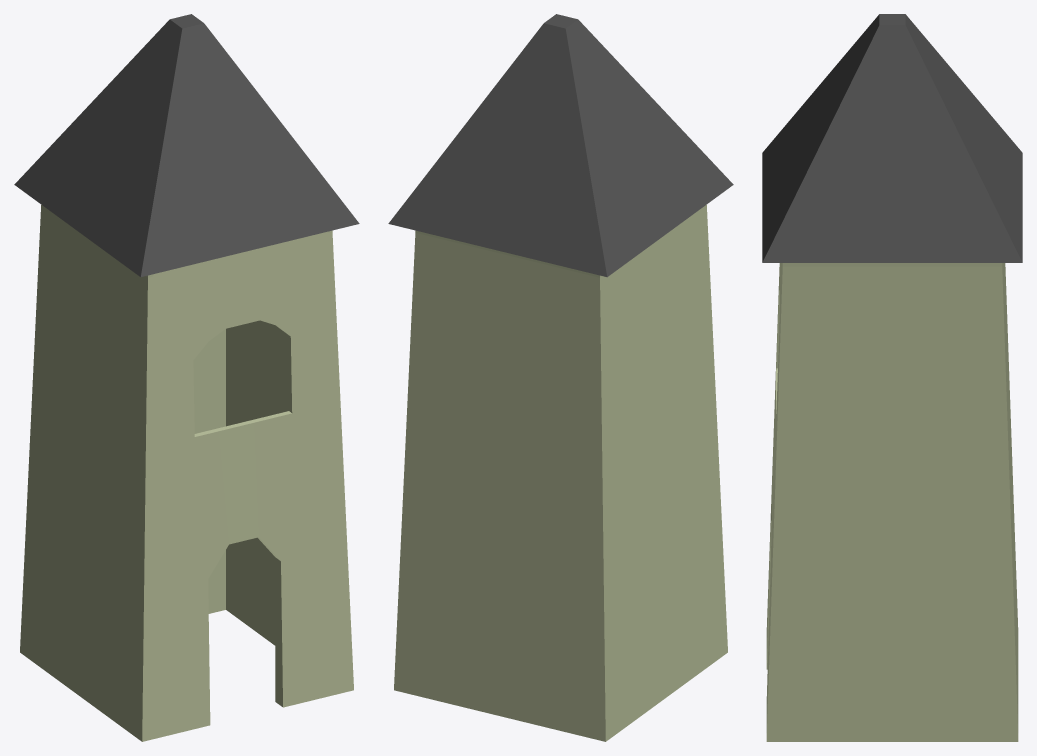
The model's file is Tower.fbx.
The picture shows the model from 3 angles, left to right: view 1: azimuth 30°, elevation 25°; view 2: azimuth 150°, elevation 25°; view 3: azimuth 270°, elevation 25°; orthographic projection. The views are drawn at different scales.
Visible parts, largest first — view 1: Tower; view 2: Tower; view 3: Tower.
Part boxes in pixels (x1,y1,x2,y2): Tower: (14, 14, 359, 741); Tower: (388, 14, 733, 741); Tower: (762, 14, 1022, 741).
Size of the model in its own units: 180 by 510 by 180.
